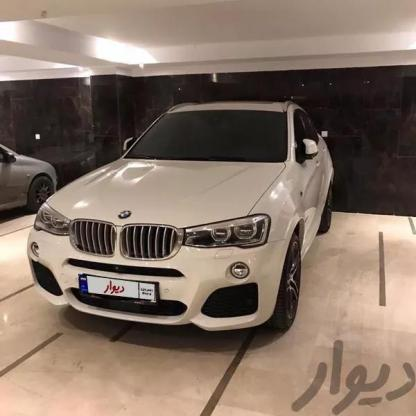Car: (37, 87, 339, 348), (0, 134, 69, 209)
